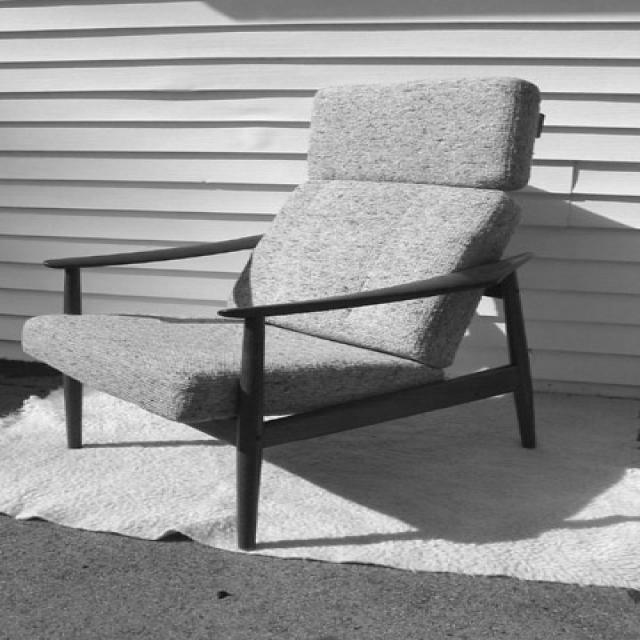chair: (20, 80, 548, 550)
